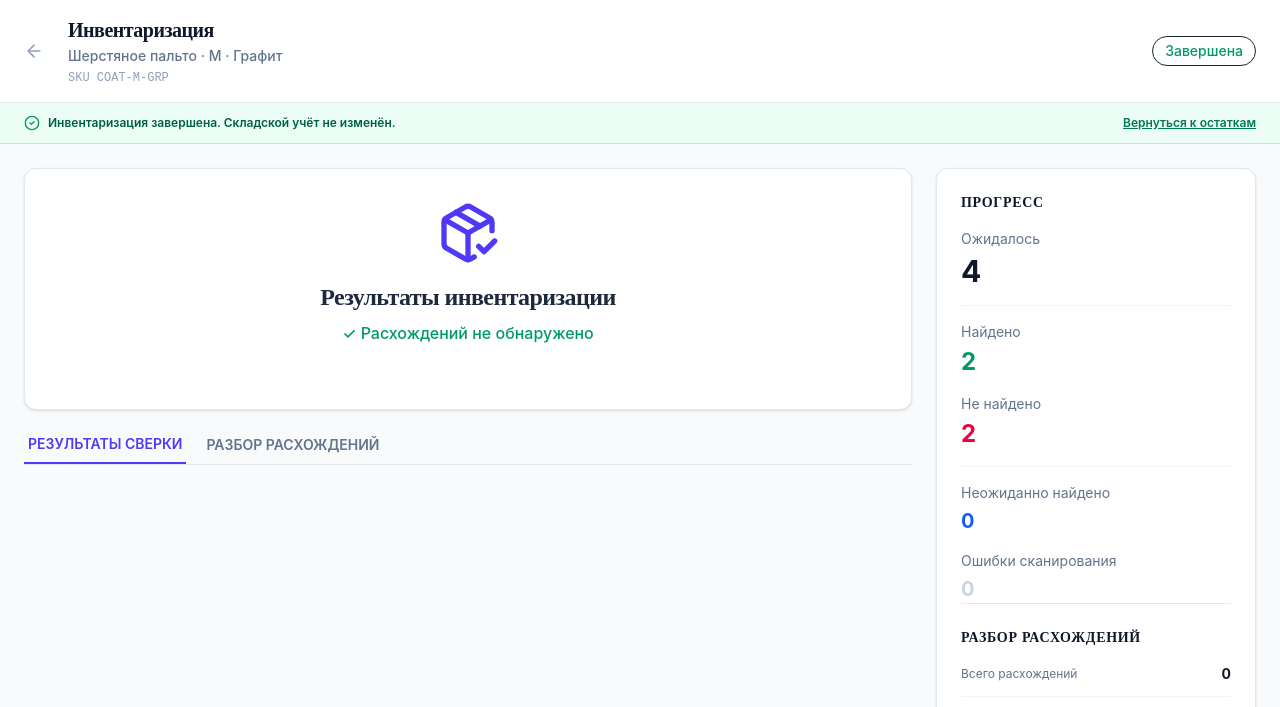
it: AdminInventoryReconciliation › renders empty resolution plan state when no discrepancies exist
The image size is (1280, 707).
Click the tab "РАЗБОР РАСХОЖДЕНИЙ" at (293,449), box [202,434,384,464]
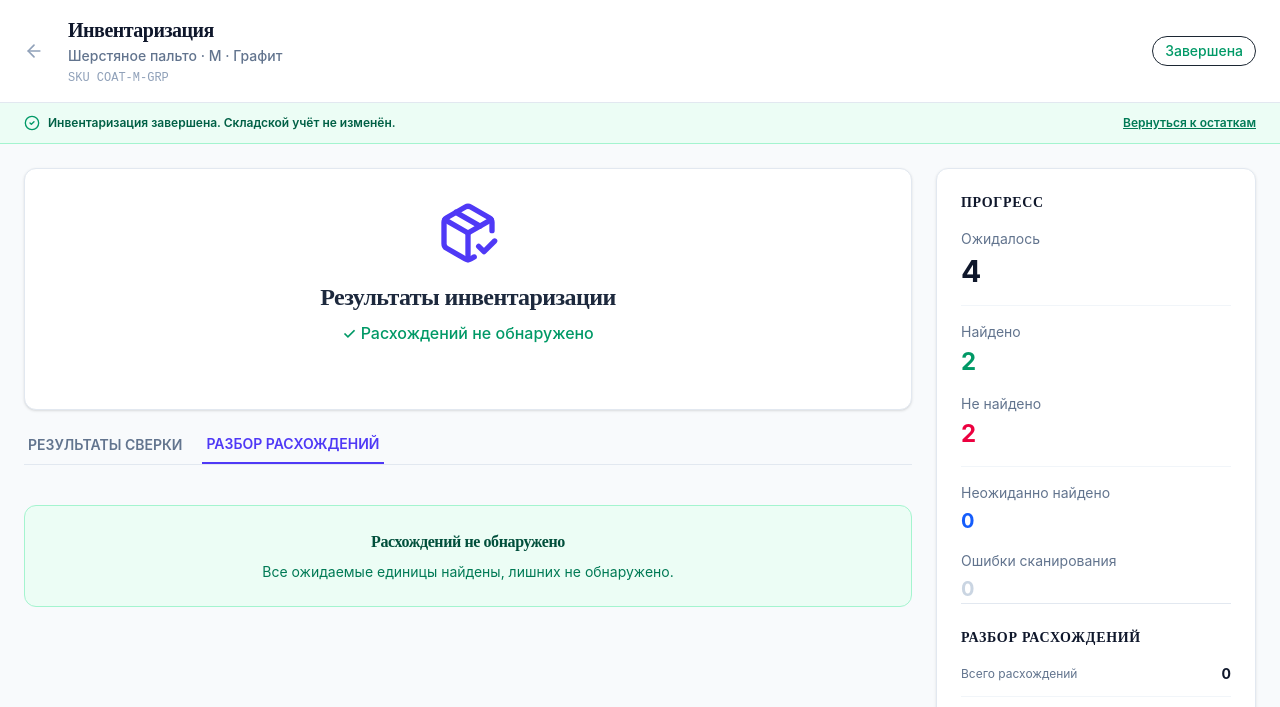
Expected: the heading "Расхождений не обнаружено" is shown, [371,533,565,550]
Expected: the text "Все ожидаемые единицы найдены, лишних не обнаружено." is shown, [262,563,674,580]
